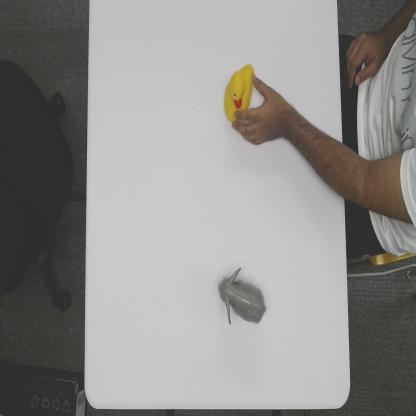Arm: (284, 100, 346, 204)
Duck: (222, 64, 256, 120)
Elephant: (218, 266, 267, 328)
Hand: (231, 75, 285, 149)
